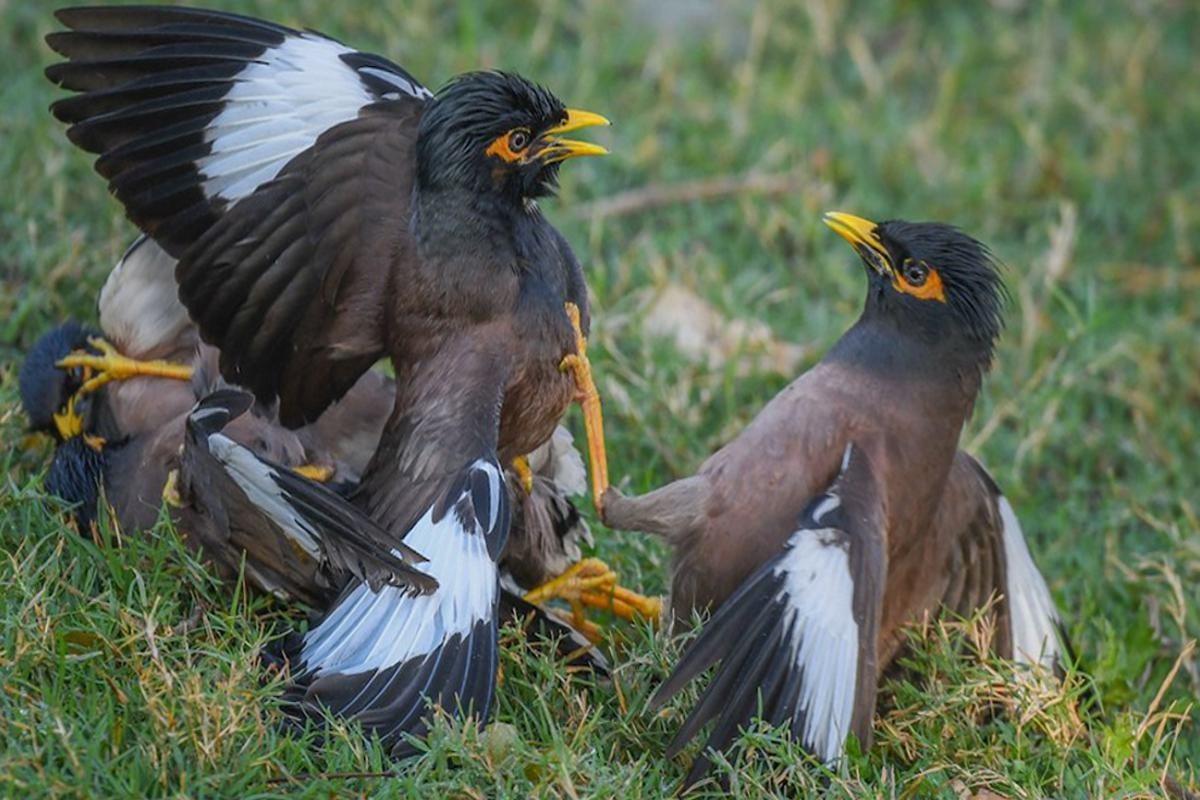myna: (121, 70, 634, 492), (718, 186, 1073, 732)
